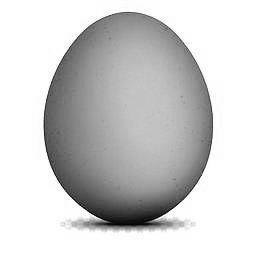telur: (40, 11, 216, 226)
